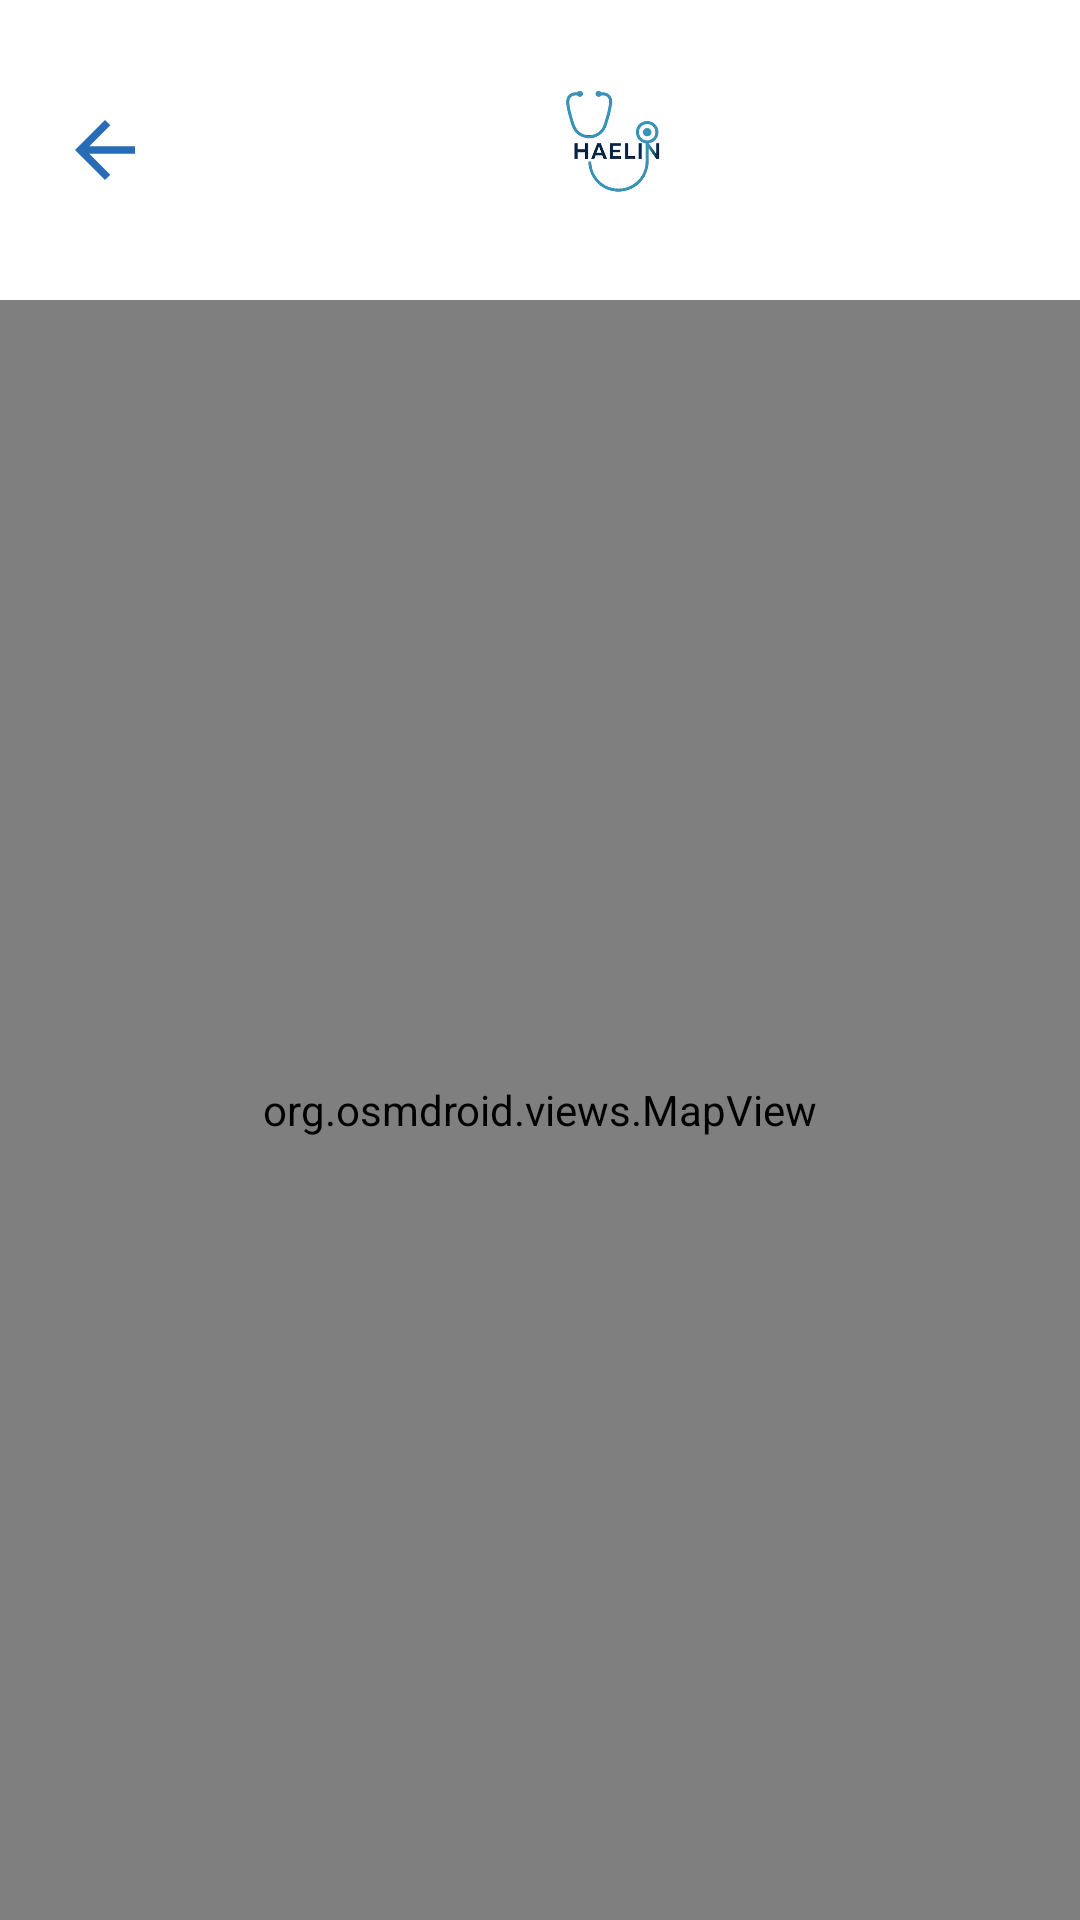

Icons on this 1080w x 1920h Android screen, each with the point to tap as [x,y]:
back: [105,150]
